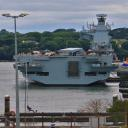Portanaves: (16, 14, 113, 89)
